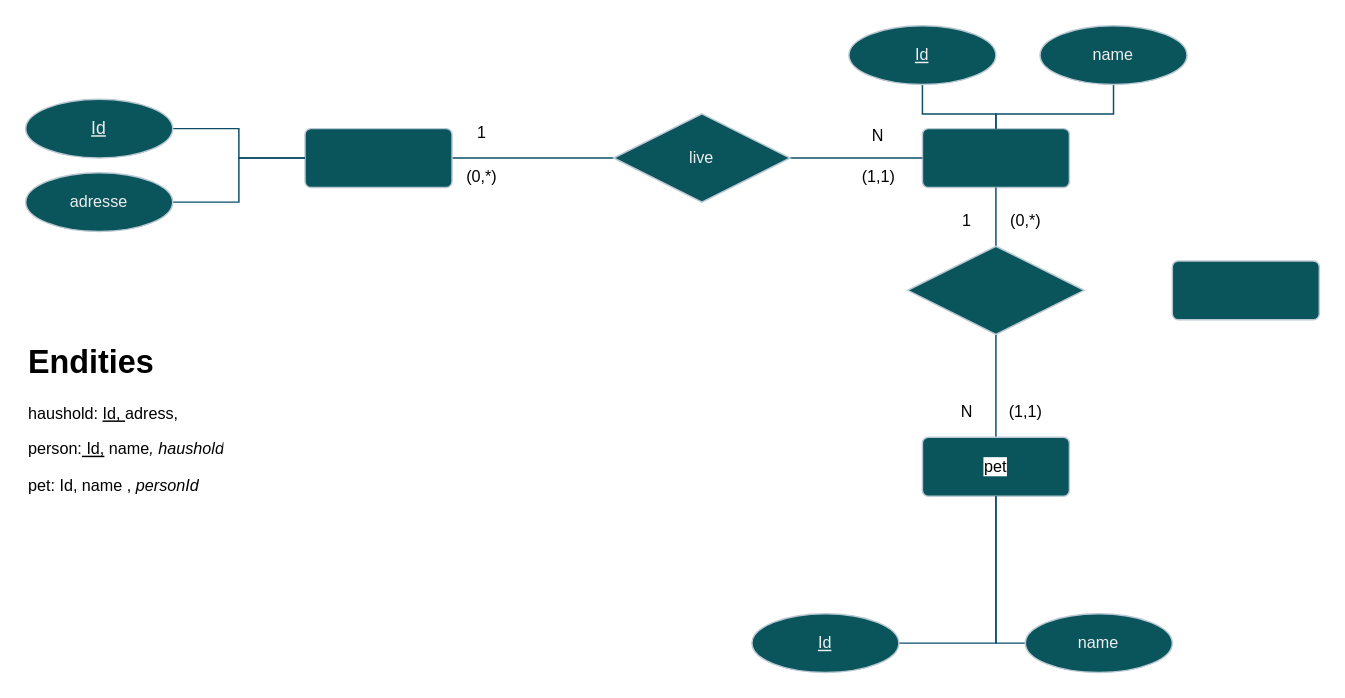
This 1345x698 diagram has some shape labels left out. Here are the shapes that lost their labels. From the top down, the centre of each, then its label:
(x=378, y=157): haushold
(x=995, y=157): person
(x=995, y=289): owns
(x=1245, y=289): Animals
